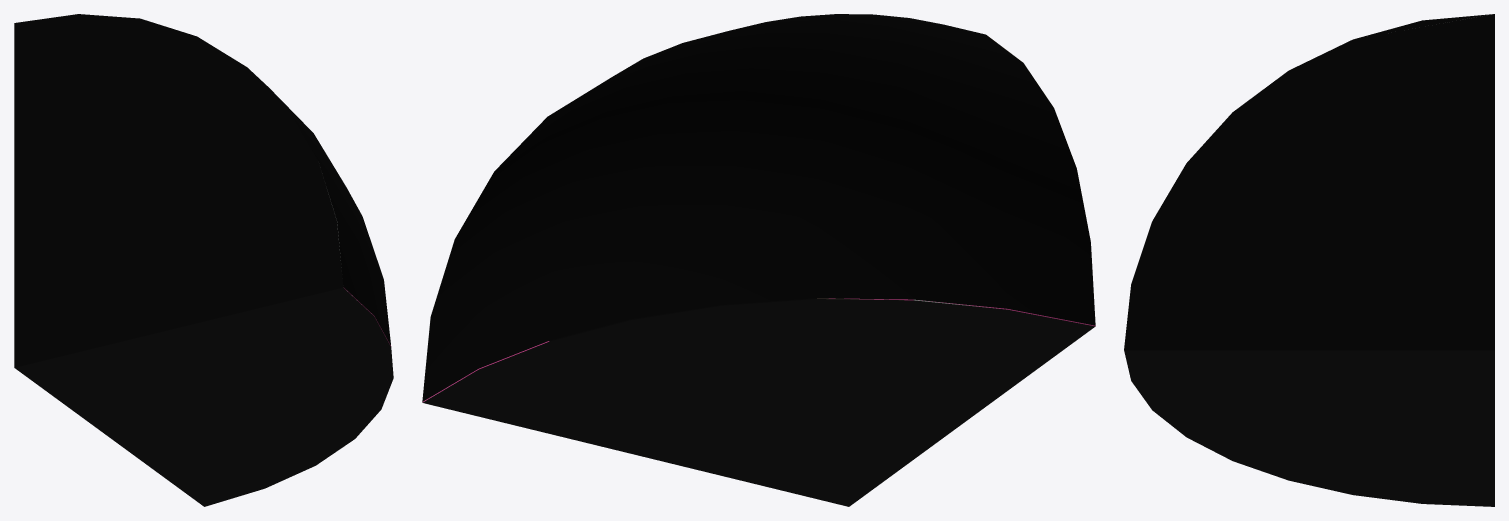
File: r4c1_border_black.gltf
3 views of the same model, side by side, from view 1: azimuth 30°, elevation 25°; view 2: azimuth 150°, elevation 25°; view 3: azimuth 270°, elevation 25° (orthographic). The views are drawn at different scales.
Visible parts, largest first — view 1: r4c1_border_black; view 2: r4c1_border_black; view 3: r4c1_border_black.
Part boxes in pixels (x1=…): r4c1_border_black: x1=14, y1=14, x2=393, y2=506; r4c1_border_black: x1=422, y1=14, x2=1095, y2=506; r4c1_border_black: x1=1124, y1=14, x2=1494, y2=506.
Size of the model in its own units: 2.1 by 2.1 by 2.1.
Materials: 1 (1 with a texture image).
